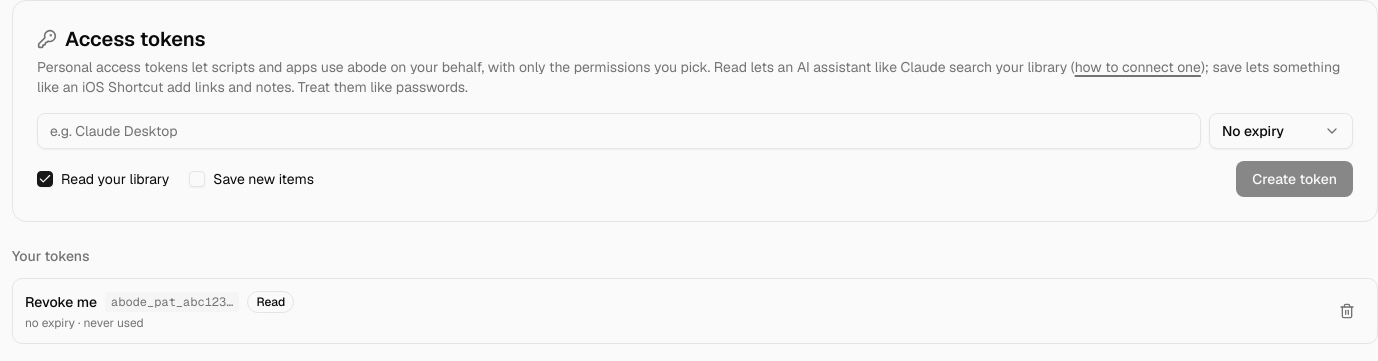
TokenSettings › does not revoke on the first click alone
Click the button named "Revoke token" at (1347, 311), box [1329,295,1365,327]
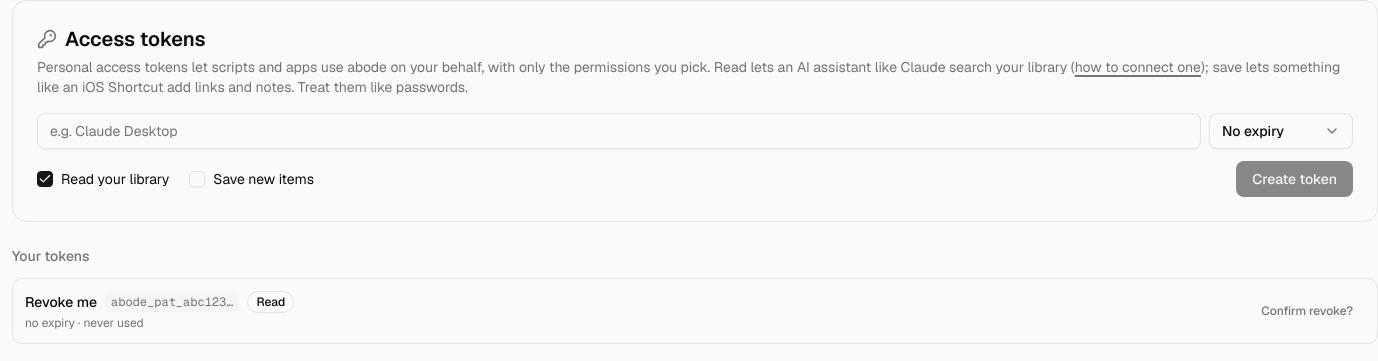
Check: the text "Confirm revoke?" is shown, box [1261,303,1353,319]
